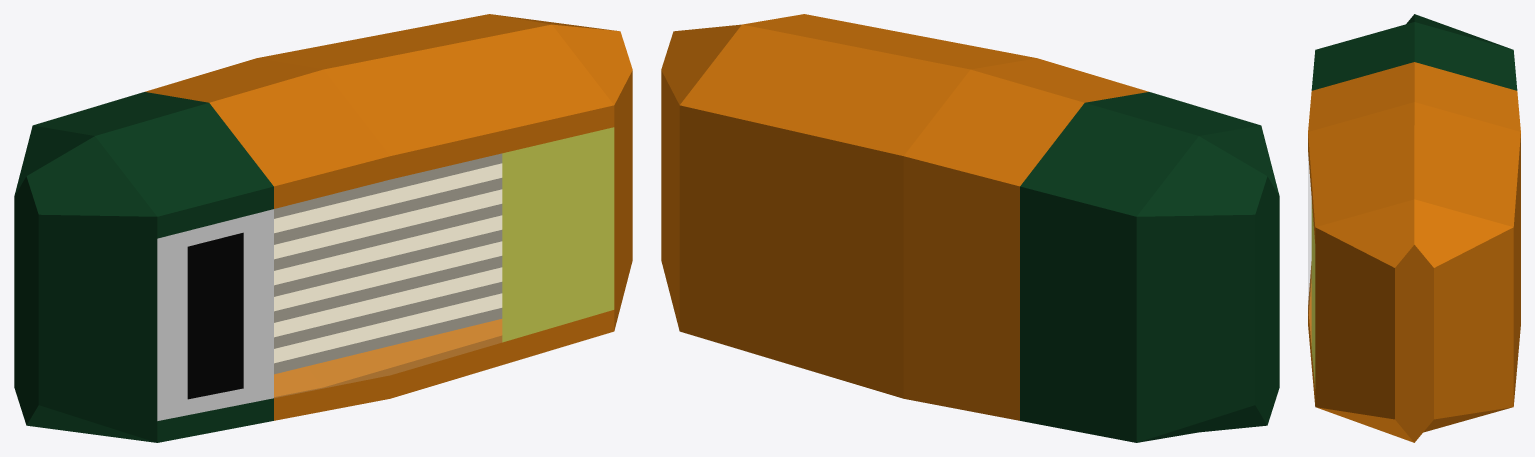
File: Thick Rice Noodles.fbx
3 views of the same model, side by side, from view 1: azimuth 30°, elevation 25°; view 2: azimuth 150°, elevation 25°; view 3: azimuth 270°, elevation 25° (orthographic). The views are drawn at different scales.
Visible parts, largest first — view 1: Thick Rice Noodles; view 2: Thick Rice Noodles; view 3: Thick Rice Noodles.
Boxes of the visible parts, x1,y1,x2,y2 form: Thick Rice Noodles: (14, 14, 632, 442); Thick Rice Noodles: (661, 14, 1279, 442); Thick Rice Noodles: (1308, 14, 1520, 442).
Size of the model in its own units: 63.18 by 32.31 by 24.66.
